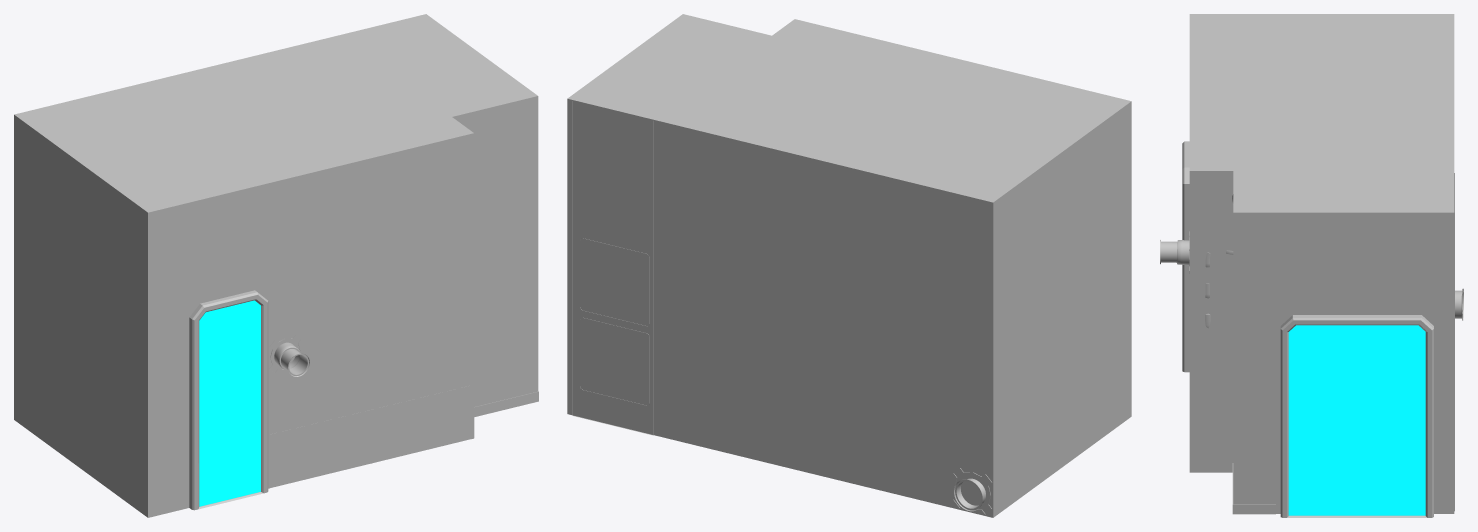
File: PrisonCell.fbx
3 renders of one model, left to right at view 1: azimuth 30°, elevation 25°; view 2: azimuth 150°, elevation 25°; view 3: azimuth 270°, elevation 25°, orthographic. The views are drawn at different scales.
Visible parts, largest first — view 1: cell_Walls, cell_ChargeDoor, brainTentacle3.001, cell_Desk, cell_TimeMachine; view 2: cell_Walls, cell_Vents; view 3: cell_Walls, cell_MainDoor, cell_ChargeDoor, brainTentacle3.001, cell_TimeMachine.
Part boxes in pixels (x1,y1,x2,y2): cell_Walls: (14,14,538,517); cell_ChargeDoor: (189,290,268,510); brainTentacle3.001: (274,342,309,376); cell_Desk: (268,385,473,488); cell_TimeMachine: (474,391,538,416); cell_Walls: (567,14,1131,517); cell_Vents: (572,101,653,435); cell_Walls: (1189,14,1454,513); cell_MainDoor: (1280,315,1433,517); cell_ChargeDoor: (1182,141,1189,372); brainTentacle3.001: (1160,240,1233,328); cell_TimeMachine: (1232,463,1275,514).
Size of the model in its own units: 602 by 382 by 419.
